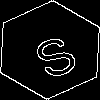S: (25, 25, 82, 82)
